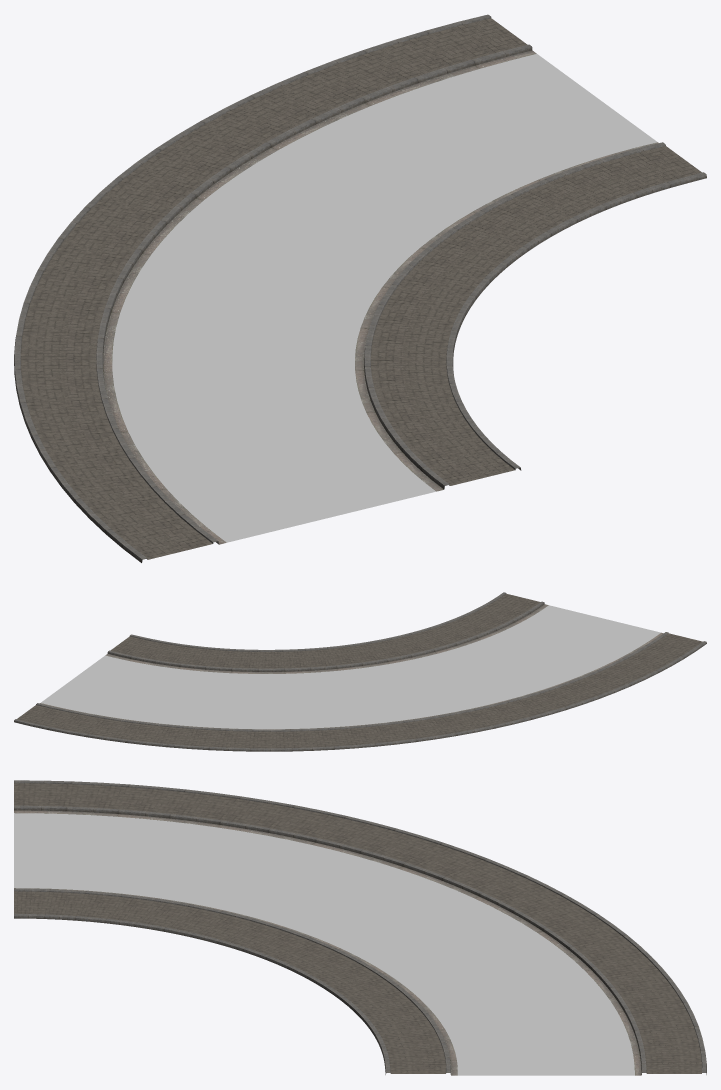
The model's file is Road6.fbx.
The picture shows the model from 3 angles, top to bottom: view 1: azimuth 30°, elevation 25°; view 2: azimuth 150°, elevation 25°; view 3: azimuth 270°, elevation 25°; orthographic projection. The views are drawn at different scales.
Visible parts, largest first — view 1: polySurface59; view 2: polySurface59; view 3: polySurface59.
Boxes of the visible parts, x1,y1,x2,y2 form: polySurface59: (14, 14, 706, 562); polySurface59: (14, 592, 706, 751); polySurface59: (14, 780, 706, 1075).
Size of the model in its own units: 15.62 by 0.0656 by 15.62.
